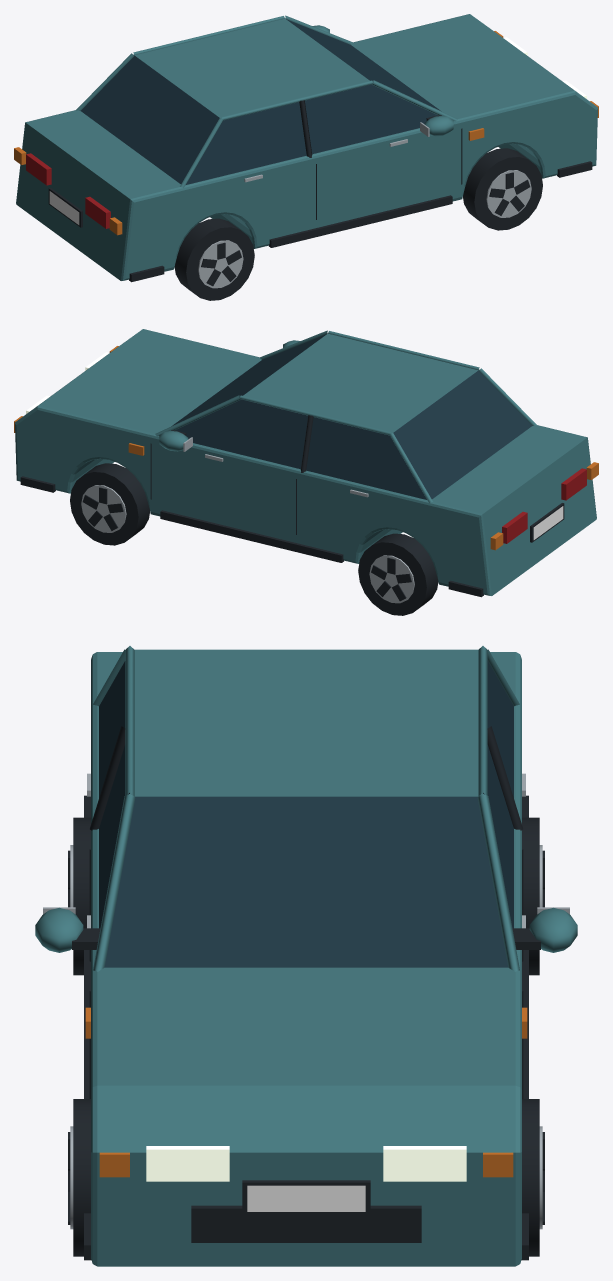
Rendered from compact-near.glb.
3 views of the same model, one above another, from view 1: azimuth 30°, elevation 25°; view 2: azimuth 150°, elevation 25°; view 3: azimuth 270°, elevation 25° (orthographic). The views are drawn at different scales.
Parts seen in each view (by area): view 1: body_paint, body_glass, wheel_surface (×2), body_trim, body_brake, registration_text, body_indicator_right; view 2: body_paint, body_glass, wheel_surface (×2), body_trim, body_brake, registration_text, body_indicator_left; view 3: body_paint, body_glass, body_trim, wheel_surface (×4), body_headlamp, registration_text, body_indicator_left, body_indicator_right.
Part boxes in pixels (x1,y1,x2,y2): body_paint: [16, 14, 597, 280]; body_glass: [81, 18, 441, 184]; wheel_surface (×2): [174, 148, 542, 300]; body_trim: [48, 100, 592, 282]; body_brake: [26, 153, 110, 228]; registration_text: [49, 191, 79, 224]; body_indicator_right: [109, 101, 598, 235]; body_paint: [15, 329, 596, 595]; body_glass: [171, 333, 531, 499]; wheel_surface (×2): [70, 463, 438, 615]; body_trim: [20, 415, 564, 597]; body_brake: [502, 468, 586, 543]; registration_text: [533, 506, 563, 539]; body_indicator_left: [14, 416, 503, 550]; body_paint: [35, 646, 577, 1266]; body_glass: [99, 661, 513, 967]; body_trim: [72, 726, 540, 1260]; wheel_surface (×4): [68, 817, 544, 1256]; body_headlamp: [146, 1146, 466, 1181]; registration_text: [247, 1185, 365, 1211]; body_indicator_left: [483, 1007, 527, 1177]; body_indicator_right: [85, 1007, 129, 1177].
Size of the model in its own units: 4.43 by 1.48 by 2.15.
